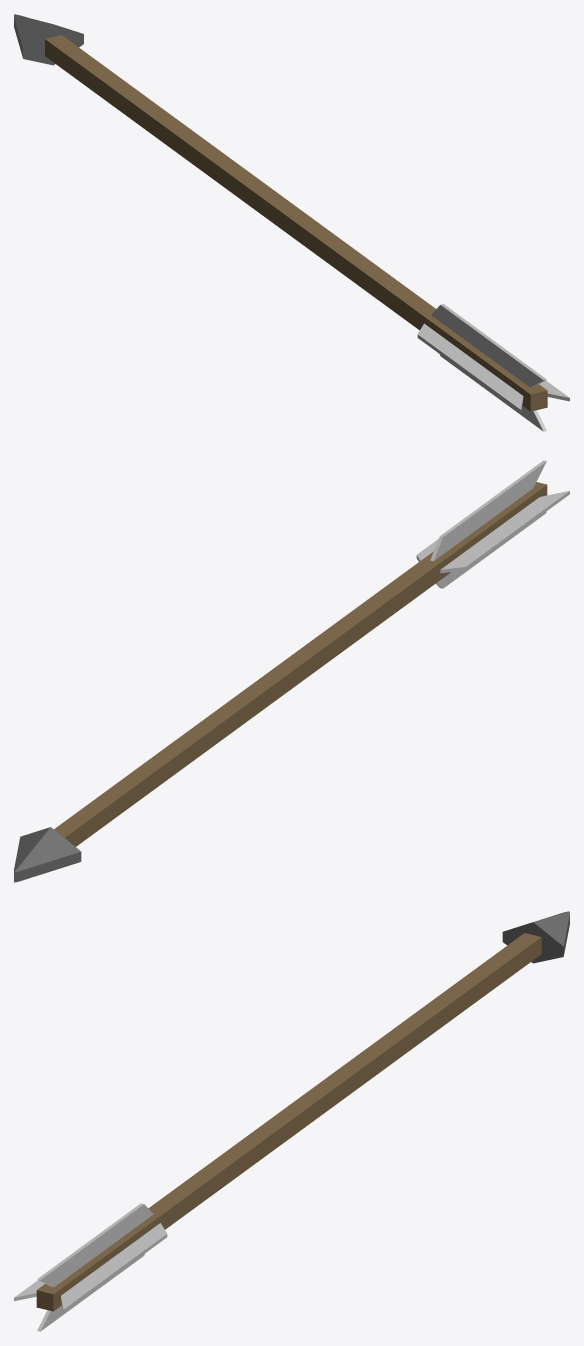
File: Arrow.fbx
3 renders of one model, top to bottom at view 1: azimuth 30°, elevation 25°; view 2: azimuth 150°, elevation 25°; view 3: azimuth 330°, elevation 25°, orthographic.
Parts seen in each view (by area): view 1: obj_Wood_Bow_Arrow.001; view 2: obj_Wood_Bow_Arrow.001; view 3: obj_Wood_Bow_Arrow.001.
Boxes of the visible parts, x1,y1,x2,y2 form: obj_Wood_Bow_Arrow.001: (14, 14, 569, 431); obj_Wood_Bow_Arrow.001: (14, 460, 569, 882); obj_Wood_Bow_Arrow.001: (14, 911, 569, 1331).
Bounding box in the file's own units: 3.61 × 2.91 × 54.49.
